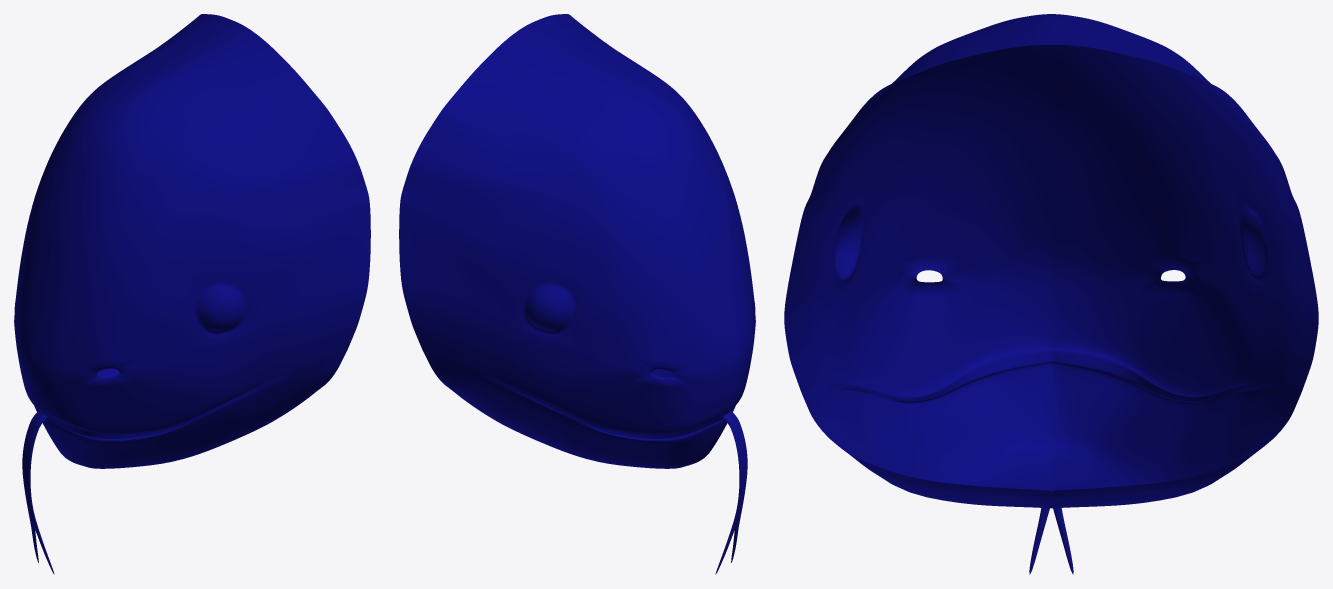
File: serpentmasque.fbx
3 renders of one model, left to right at view 1: azimuth 30°, elevation 25°; view 2: azimuth 150°, elevation 25°; view 3: azimuth 270°, elevation 25°, orthographic. The views are drawn at different scales.
Parts seen in each view (by area): view 1: Serpent_fini; view 2: Serpent_fini; view 3: Serpent_fini.
Part boxes in pixels (left/top/right/bottom): Serpent_fini: left=14, top=14, right=370, bottom=574; Serpent_fini: left=399, top=14, right=755, bottom=574; Serpent_fini: left=784, top=14, right=1318, bottom=574.
Bounding box in the file's own units: 2.01 × 3.66 × 2.65.
